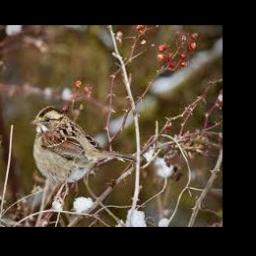Sparrow: (29, 106, 136, 194)
